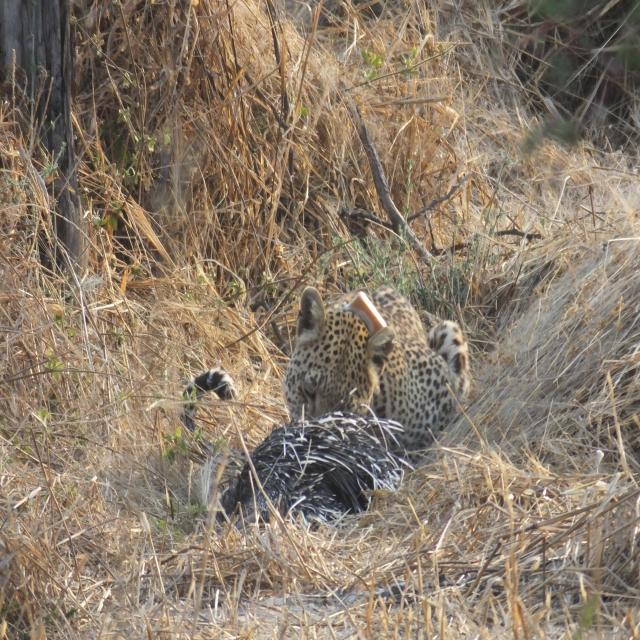Leopard: (180, 284, 479, 464)
